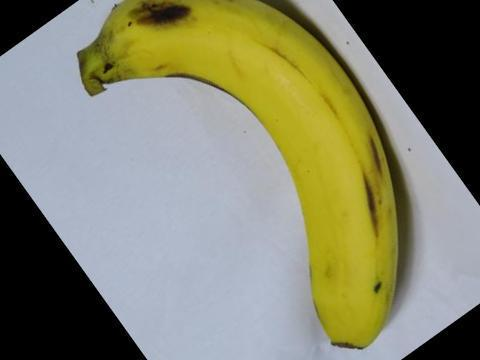freshripe: (62, 0, 402, 353)
